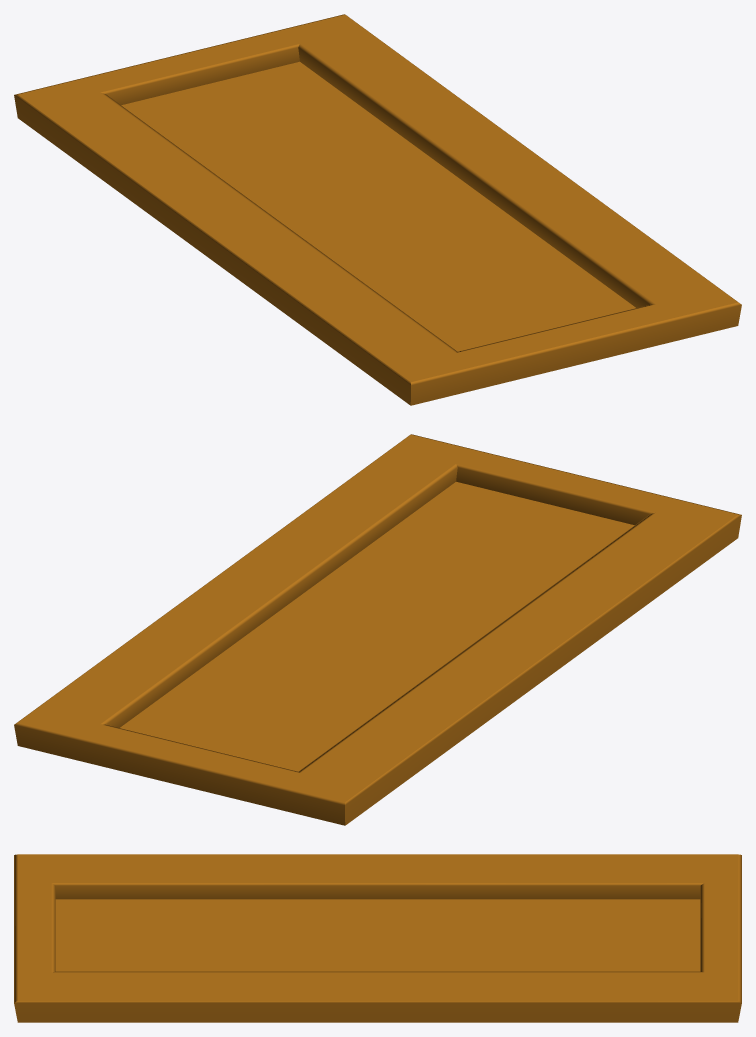
The model's file is Drop_Target_Hole.fbx.
3 renders of one model, top to bottom at view 1: azimuth 30°, elevation 25°; view 2: azimuth 150°, elevation 25°; view 3: azimuth 270°, elevation 25°, orthographic. The views are drawn at different scales.
Visible parts, largest first — view 1: Drop_Target_Hole; view 2: Drop_Target_Hole; view 3: Drop_Target_Hole.
Part boxes in pixels (x1,y1,x2,y2): Drop_Target_Hole: (14, 14, 741, 405); Drop_Target_Hole: (14, 434, 741, 825); Drop_Target_Hole: (14, 854, 741, 1022).
Size of the model in its own units: 1.43 by 0.0974 by 2.97.
